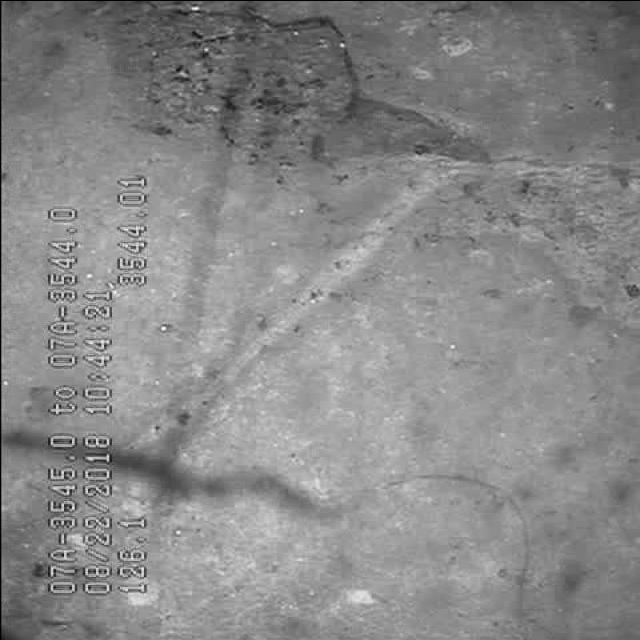Crack: (361, 432, 579, 626)
